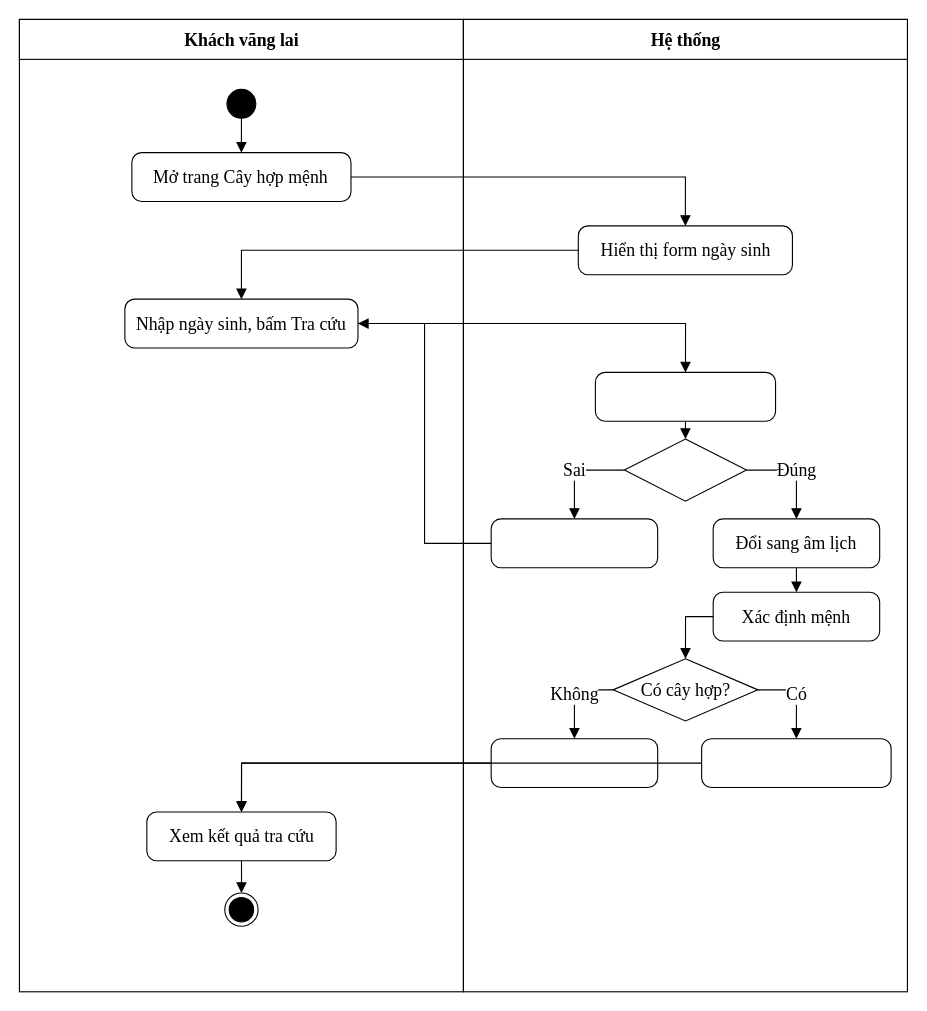
Some shapes in this 927 by 1011 pixel diagram are drawn without their labels. The centre of each missing label's shape, as x and y in pixels:
"Báo lỗi" belongs at [574,543].
"Gợi ý cây hợp mệnh" belongs at [796,763].
"Hợp lệ?" belongs at [684,469].
"Kiểm tra ngày sinh" belongs at [685,396].
"Mời nhận tin" belongs at [574,763].
